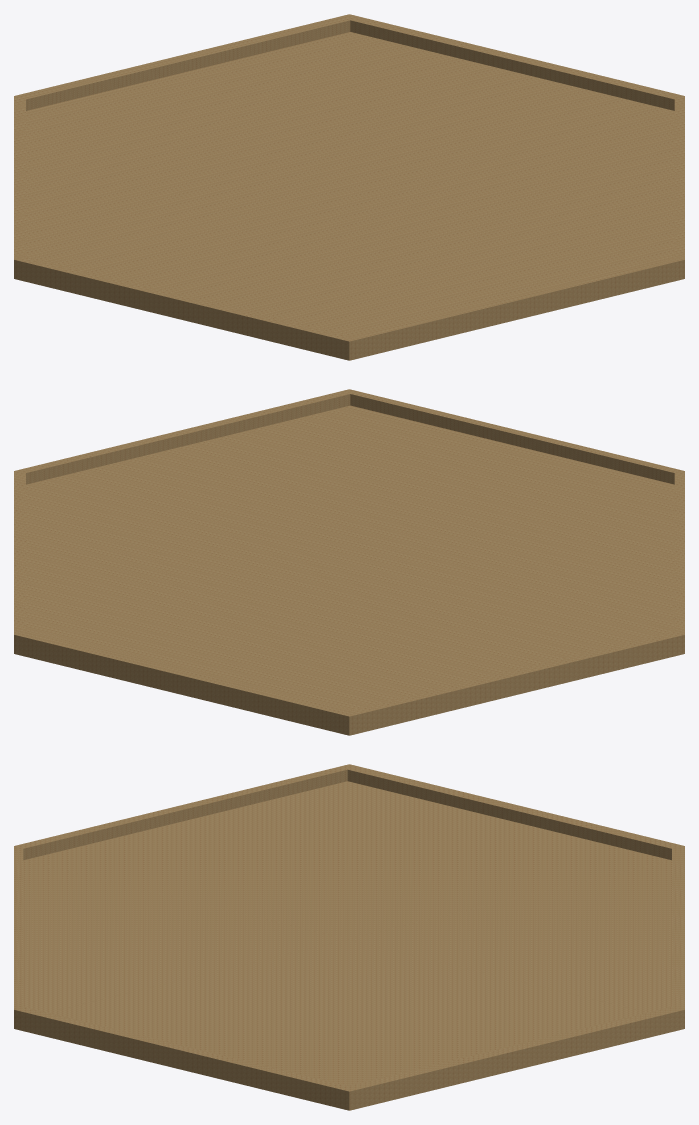
The model's file is JoustBoundries.obj.
3 renders of one model, top to bottom at view 1: azimuth 30°, elevation 25°; view 2: azimuth 150°, elevation 25°; view 3: azimuth 270°, elevation 25°, orthographic.
Parts seen in each view (by area): view 1: JoustBoundries; view 2: JoustBoundries; view 3: JoustBoundries.
Part boxes in pixels (x1=…): JoustBoundries: x1=14, y1=14, x2=684, y2=360; JoustBoundries: x1=14, y1=389, x2=684, y2=735; JoustBoundries: x1=14, y1=764, x2=684, y2=1110.
Bounding box in the file's own units: 73.25 × 2 × 63.44.
1 material, 1 textured.
